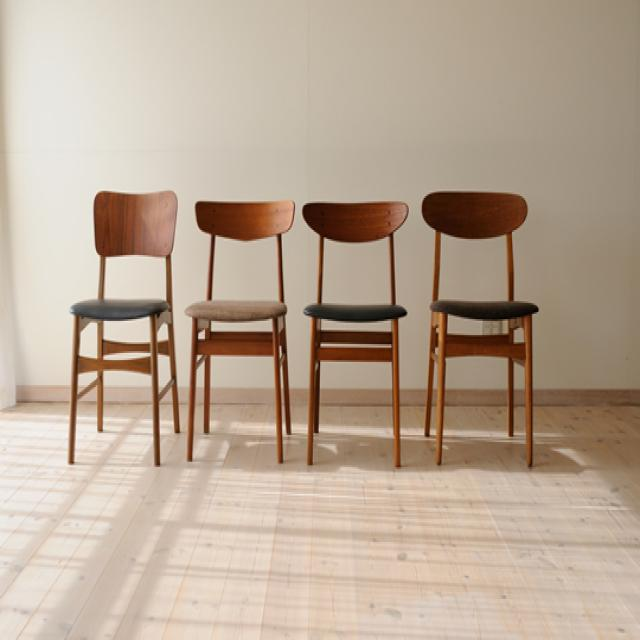chair vintage: (61, 185, 182, 473)
